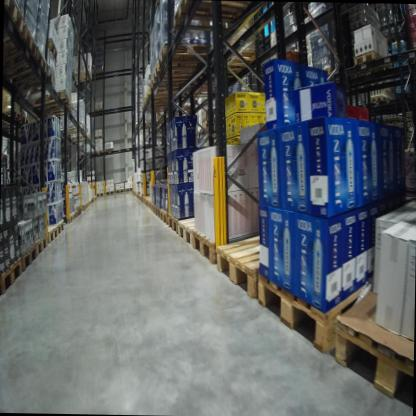pallet: (253, 245, 386, 370), (334, 267, 413, 399), (213, 220, 276, 299), (190, 219, 258, 275), (173, 1, 249, 34), (155, 43, 221, 70), (4, 46, 48, 86), (3, 16, 39, 64), (15, 68, 56, 99), (177, 213, 216, 243), (215, 44, 254, 74), (351, 43, 386, 73), (152, 60, 196, 81), (0, 253, 22, 294), (33, 89, 69, 111), (149, 75, 196, 91), (4, 0, 25, 34), (19, 241, 38, 275), (3, 112, 32, 134), (41, 101, 72, 121), (166, 210, 187, 238), (54, 123, 86, 140), (317, 59, 342, 80), (33, 230, 50, 256), (2, 109, 22, 125), (367, 92, 387, 108), (46, 35, 59, 59), (74, 68, 93, 84), (47, 217, 64, 233), (46, 223, 59, 241), (159, 206, 169, 227), (60, 210, 75, 223), (91, 147, 105, 157), (92, 105, 104, 114), (123, 185, 134, 193), (104, 145, 115, 153), (94, 191, 106, 198), (155, 207, 162, 218), (151, 199, 156, 214), (115, 187, 124, 195), (93, 134, 105, 140), (106, 188, 115, 195), (201, 125, 207, 135), (76, 206, 83, 214), (147, 199, 152, 209), (196, 128, 202, 136), (74, 209, 79, 218)
